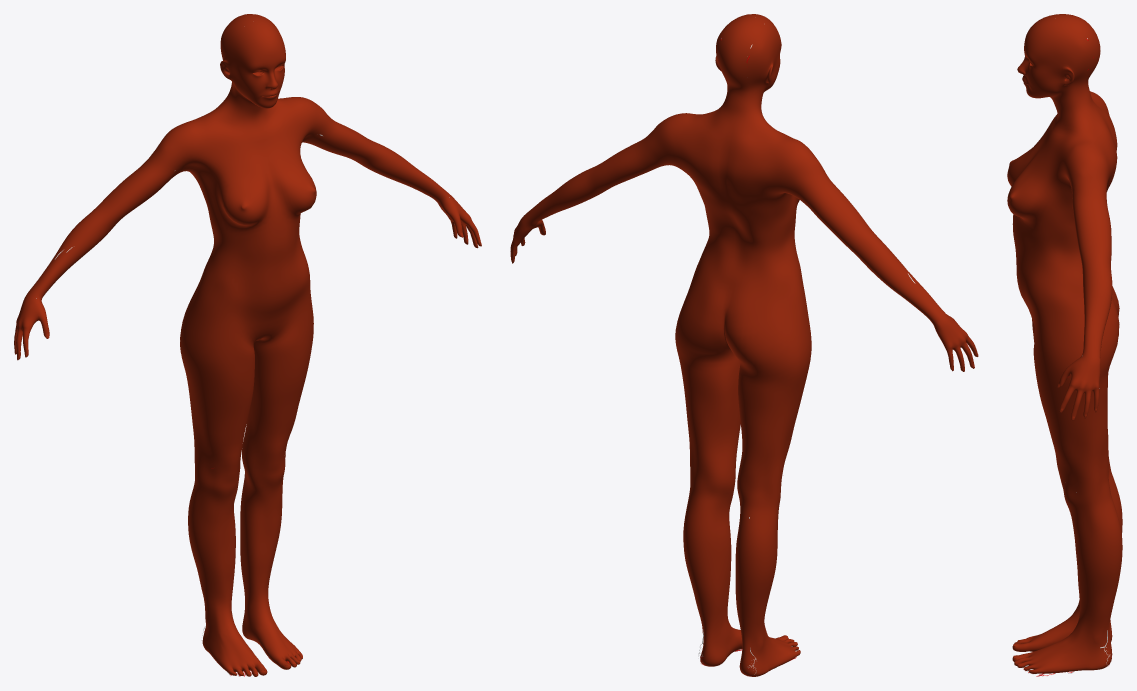
File: circulatorio.glb
The picture shows the model from 3 angles, left to right: view 1: azimuth 30°, elevation 25°; view 2: azimuth 150°, elevation 25°; view 3: azimuth 270°, elevation 25°; orthographic projection.
Parts seen in each view (by area): view 1: 0014_object_13; view 2: 0014_object_13; view 3: 0014_object_13.
Part boxes in pixels (box(x1,y1,x2,y2)): 0014_object_13: box(14, 14, 481, 676); 0014_object_13: box(510, 14, 978, 676); 0014_object_13: box(1007, 14, 1122, 673).
Size of the model in its own units: 1.36 by 1.81 by 0.2934.
